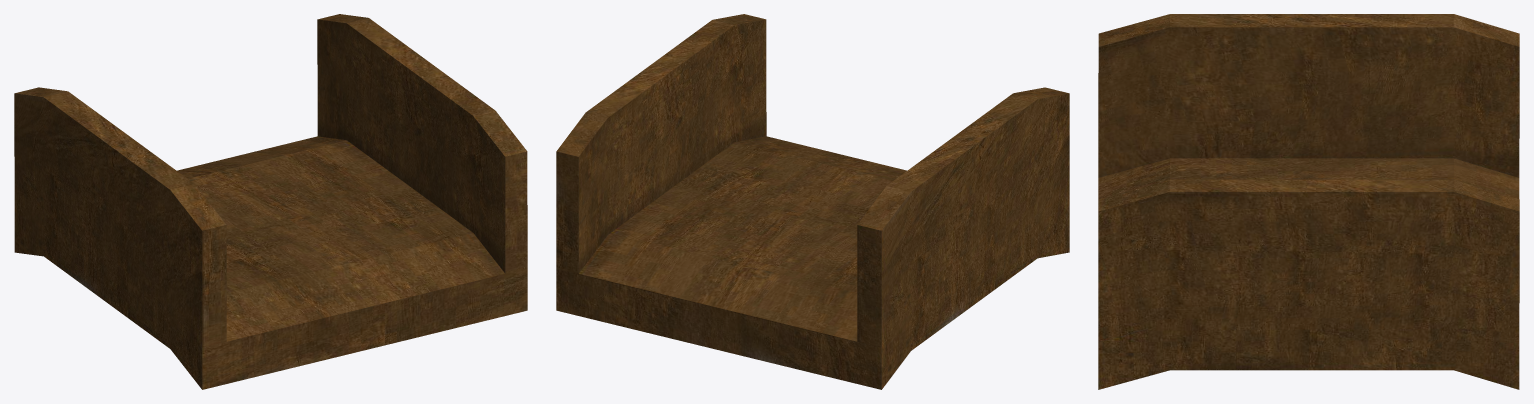
The model's file is bridge.glb.
3 views of the same model, side by side, from view 1: azimuth 30°, elevation 25°; view 2: azimuth 150°, elevation 25°; view 3: azimuth 270°, elevation 25° (orthographic). The views are drawn at different scales.
Visible parts, largest first — view 1: Cube; view 2: Cube; view 3: Cube.
Boxes of the visible parts, bbox=[...] form: Cube: bbox=[14, 14, 527, 389]; Cube: bbox=[556, 14, 1069, 389]; Cube: bbox=[1098, 14, 1519, 389].
Size of the model in its own units: 2 by 1.04 by 2.
1 material, 1 textured.
